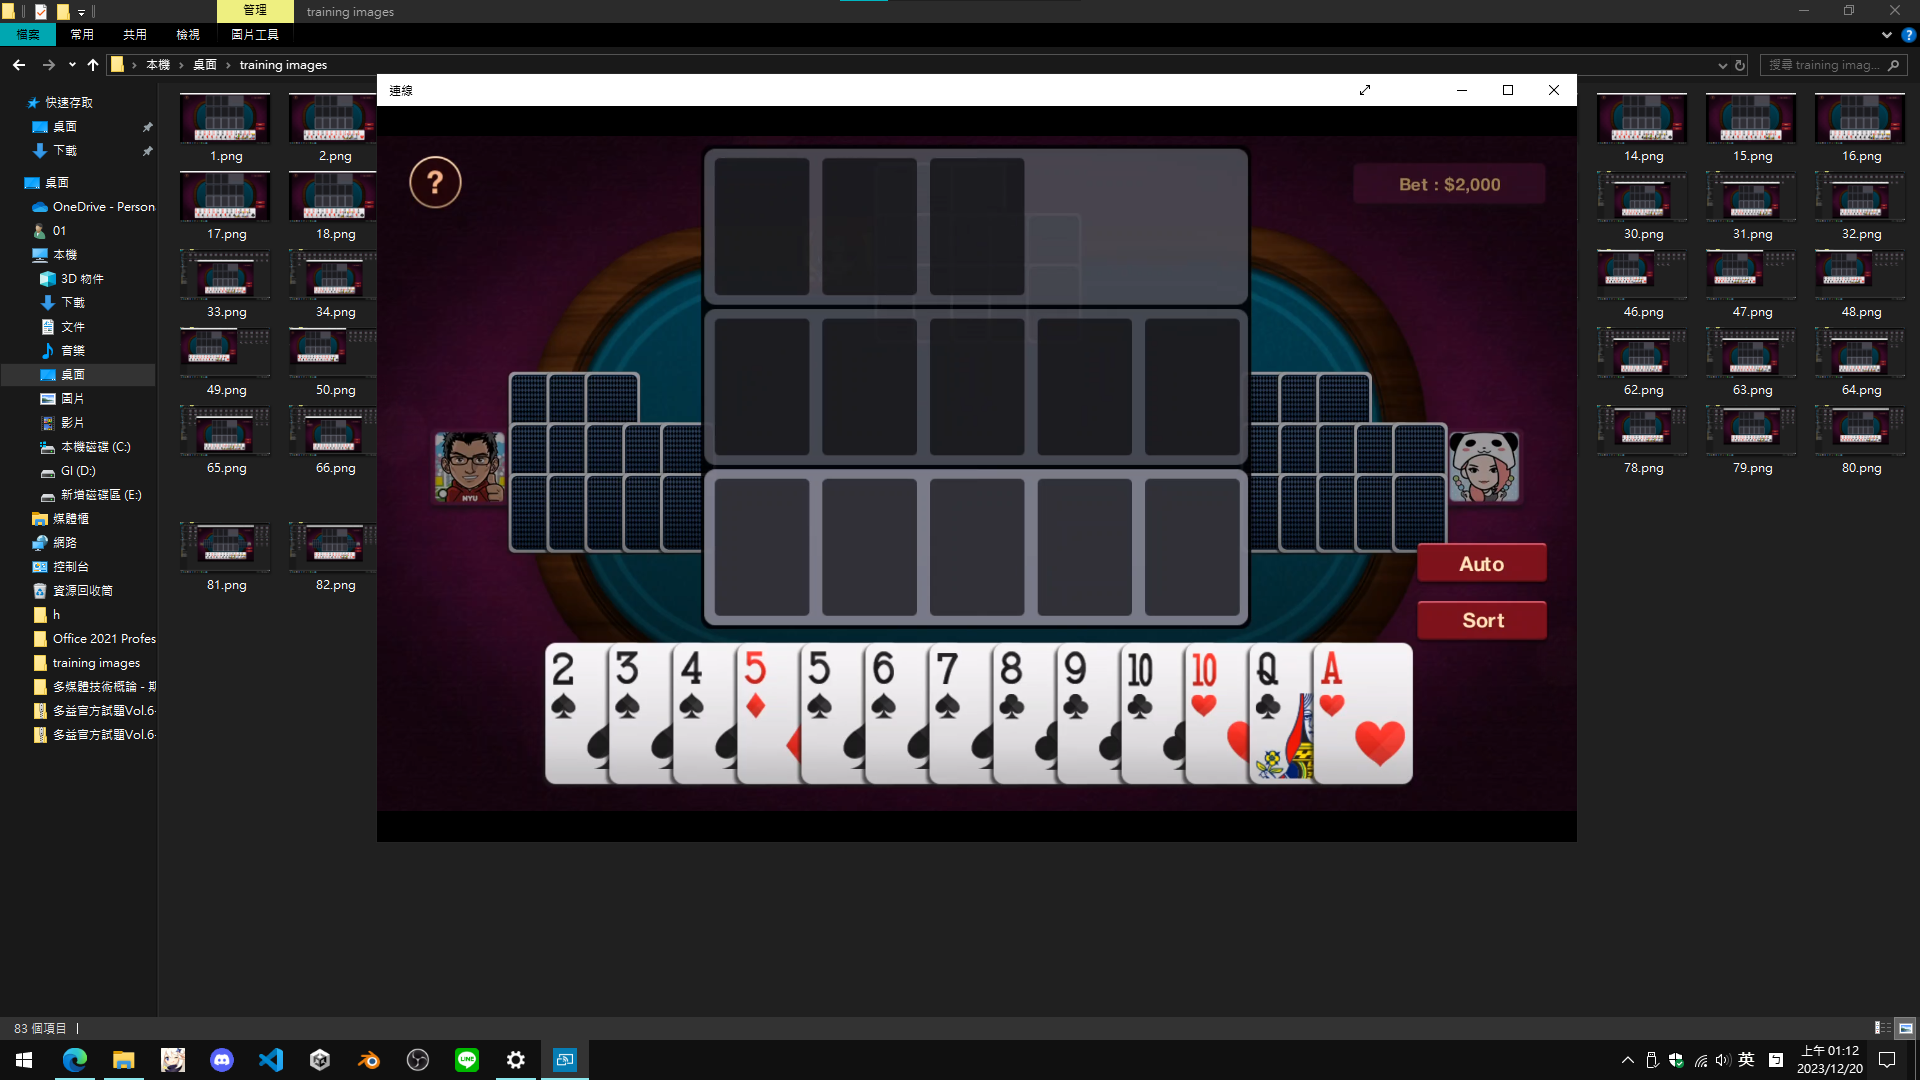10C: (1125, 649, 1158, 725)
10H: (1188, 647, 1220, 721)
2S: (550, 647, 582, 724)
3S: (612, 649, 640, 724)
4S: (678, 649, 708, 725)
5D: (741, 647, 769, 724)
5S: (804, 647, 833, 727)
6S: (869, 646, 899, 724)
7S: (931, 646, 964, 727)
8C: (997, 649, 1029, 723)
9C: (1060, 650, 1092, 723)
AH: (1317, 647, 1346, 721)
QC: (1253, 646, 1283, 727)
